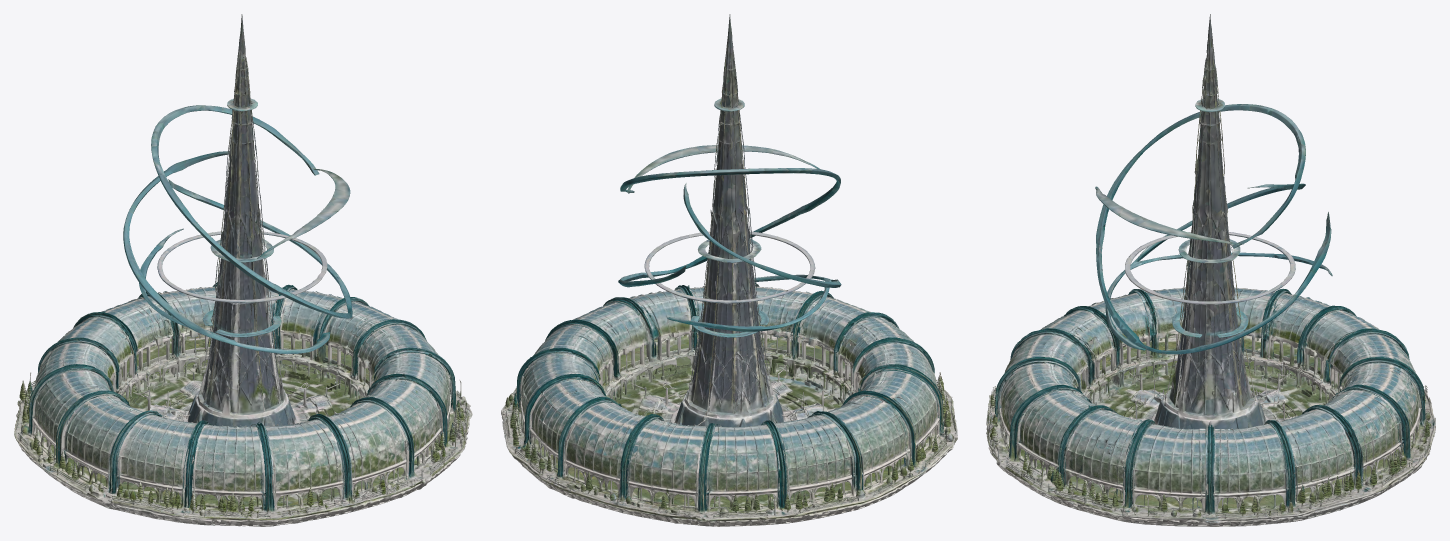
3 renders of one model, left to right at view 1: azimuth 30°, elevation 25°; view 2: azimuth 150°, elevation 25°; view 3: azimuth 270°, elevation 25°, orthographic.
Visible parts, largest first — view 1: object 1, ring0, ring1, ring2; view 2: object 1, ring0, ring1, ring2; view 3: object 1, ring0, ring1, ring2.
Boxes of the visible parts, x1,y1,x2,y2 form: object 1: (14, 14, 472, 526); ring0: (151, 105, 352, 318); ring1: (123, 151, 330, 354); ring2: (157, 231, 327, 302); object 1: (501, 14, 957, 526); ring0: (618, 145, 840, 287); ring1: (667, 183, 841, 331); ring2: (644, 231, 815, 303); object 1: (986, 14, 1435, 526); ring0: (1095, 104, 1331, 354); ring1: (1105, 183, 1332, 350); ring2: (1125, 232, 1295, 304).
Size of the model in its own units: 1.85 by 1.9 by 1.84.
1 material, 1 textured.
